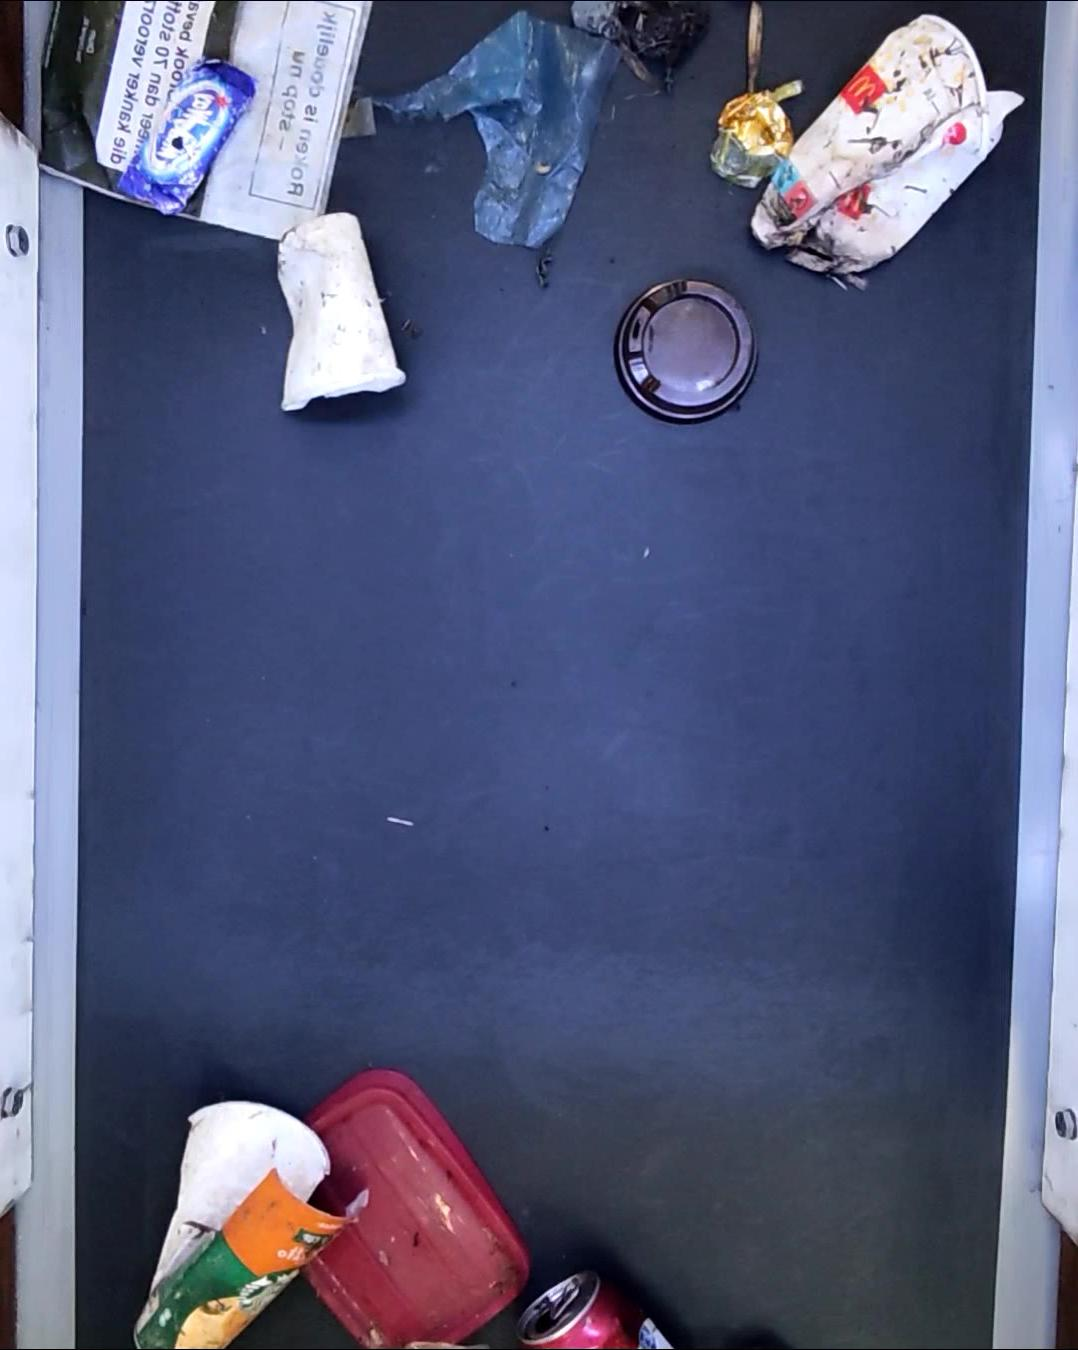Drankblikjes: (515, 1267, 629, 1350)
Plastic folies of stukken daarvan 2.5- 50 cm: (374, 12, 623, 254)
Snoep snack en chips verpakkingen: (117, 56, 257, 219), (704, 77, 803, 187)
